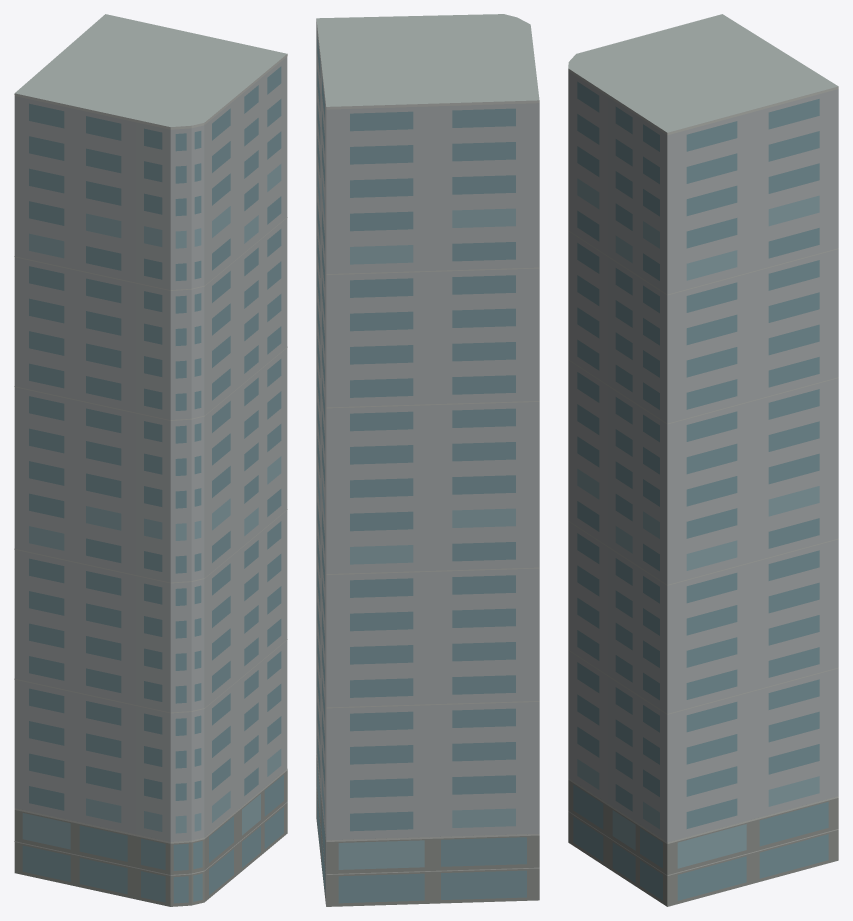
The model's file is survey-upis-32966057.glb.
3 views of the same model, side by side, from view 1: azimuth 30°, elevation 25°; view 2: azimuth 150°, elevation 25°; view 3: azimuth 270°, elevation 25° (orthographic). The views are drawn at different scales.
Parts seen in each view (by area): view 1: survey-upis-32966057.tmp; view 2: survey-upis-32966057.tmp; view 3: survey-upis-32966057.tmp.
Boxes of the visible parts, x1,y1,x2,y2 form: survey-upis-32966057.tmp: (14,14,287,906); survey-upis-32966057.tmp: (316,14,539,906); survey-upis-32966057.tmp: (568,14,838,906).
Bounding box in the file's own units: 24.11 × 73.2 × 23.19.
